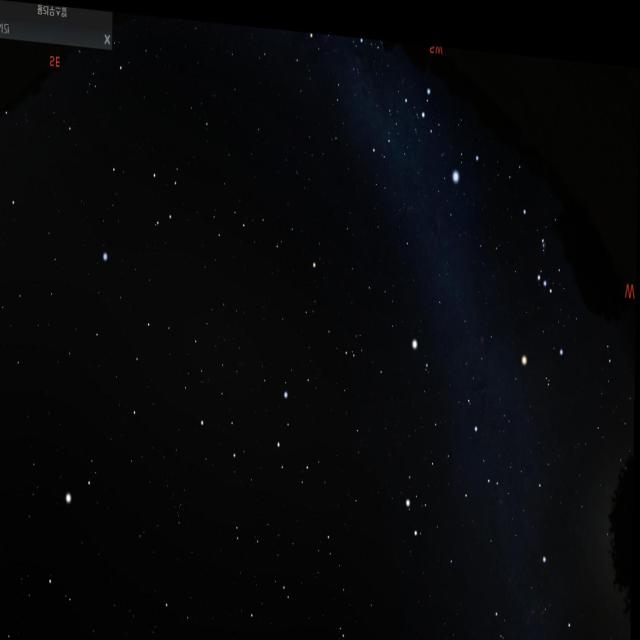bootes: (16, 462, 108, 640)
canis_major: (404, 51, 496, 184)
canis_minor: (410, 309, 443, 368)
gemini: (398, 389, 503, 545)
leo: (198, 346, 326, 495)
orion: (521, 188, 579, 360)
